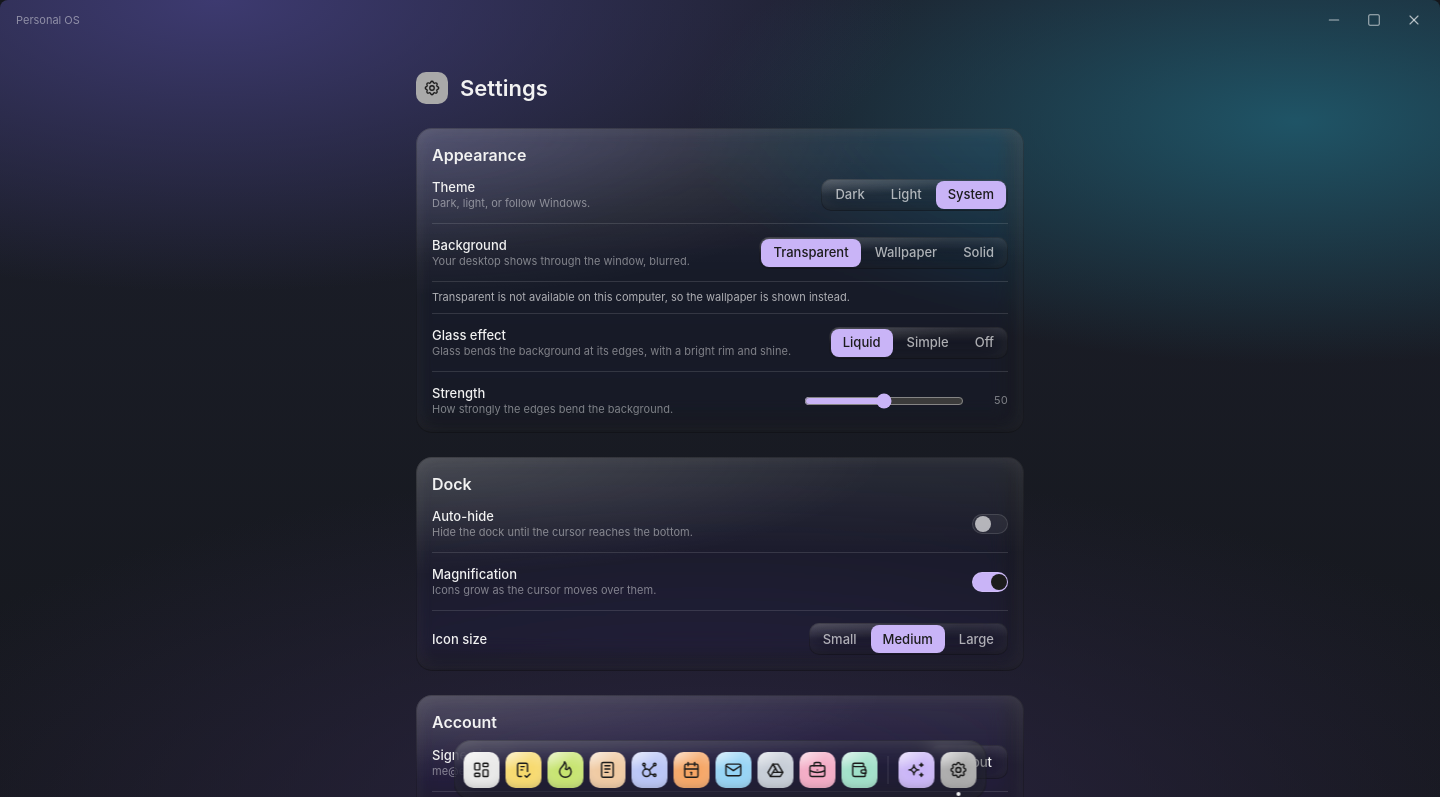
Appearance → Background › explains each mode
The image size is (1440, 797).
Expected: the text "Your desktop shows through the window, blurred." is shown, [432, 254, 690, 269]
Click the radio button labelled "Wallpaper" at (906, 252), box [863, 238, 949, 266]
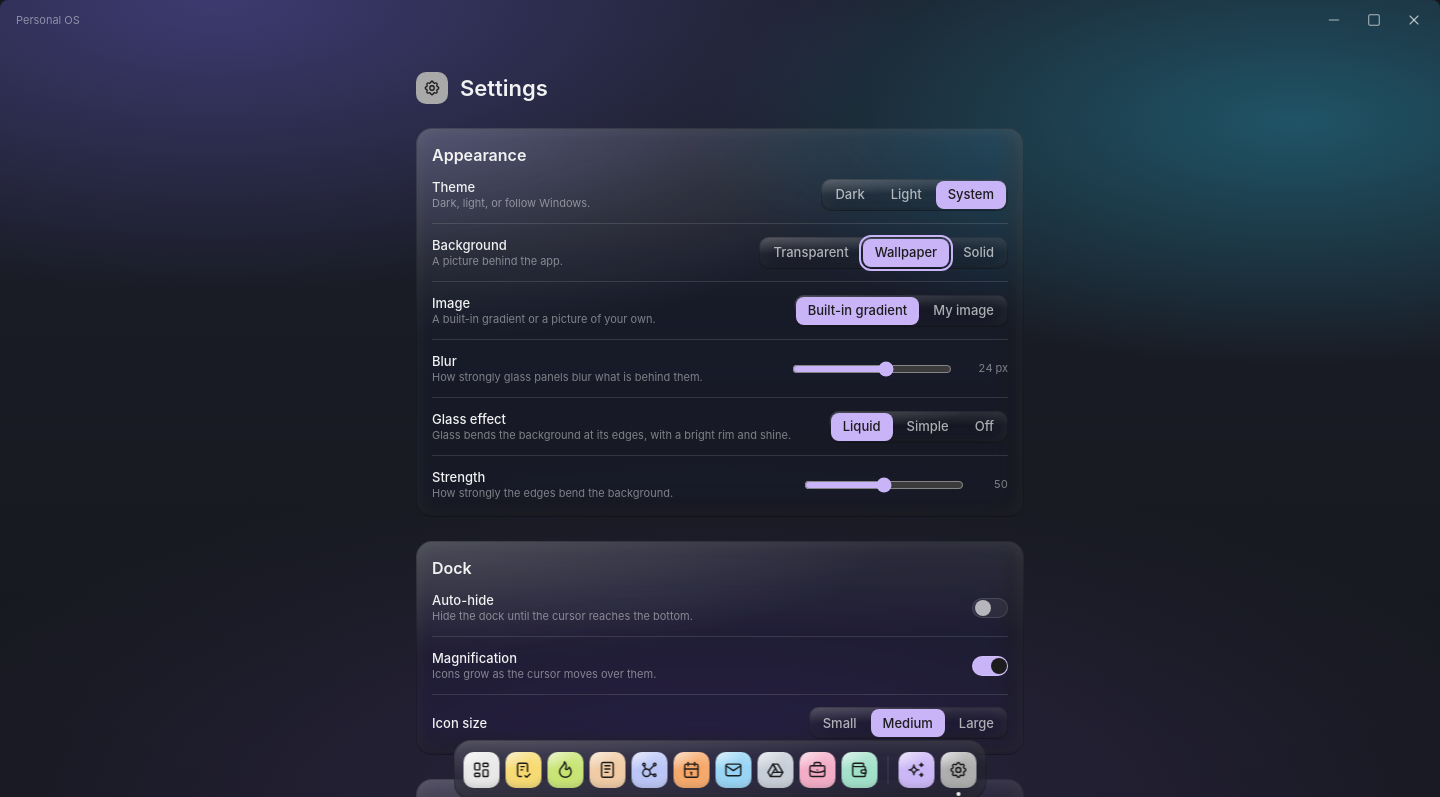
Result: the text "A picture behind the app." is shown at [432, 254, 563, 269]
Click the radio button labelled "Solid" at (979, 252), box [951, 238, 1006, 266]
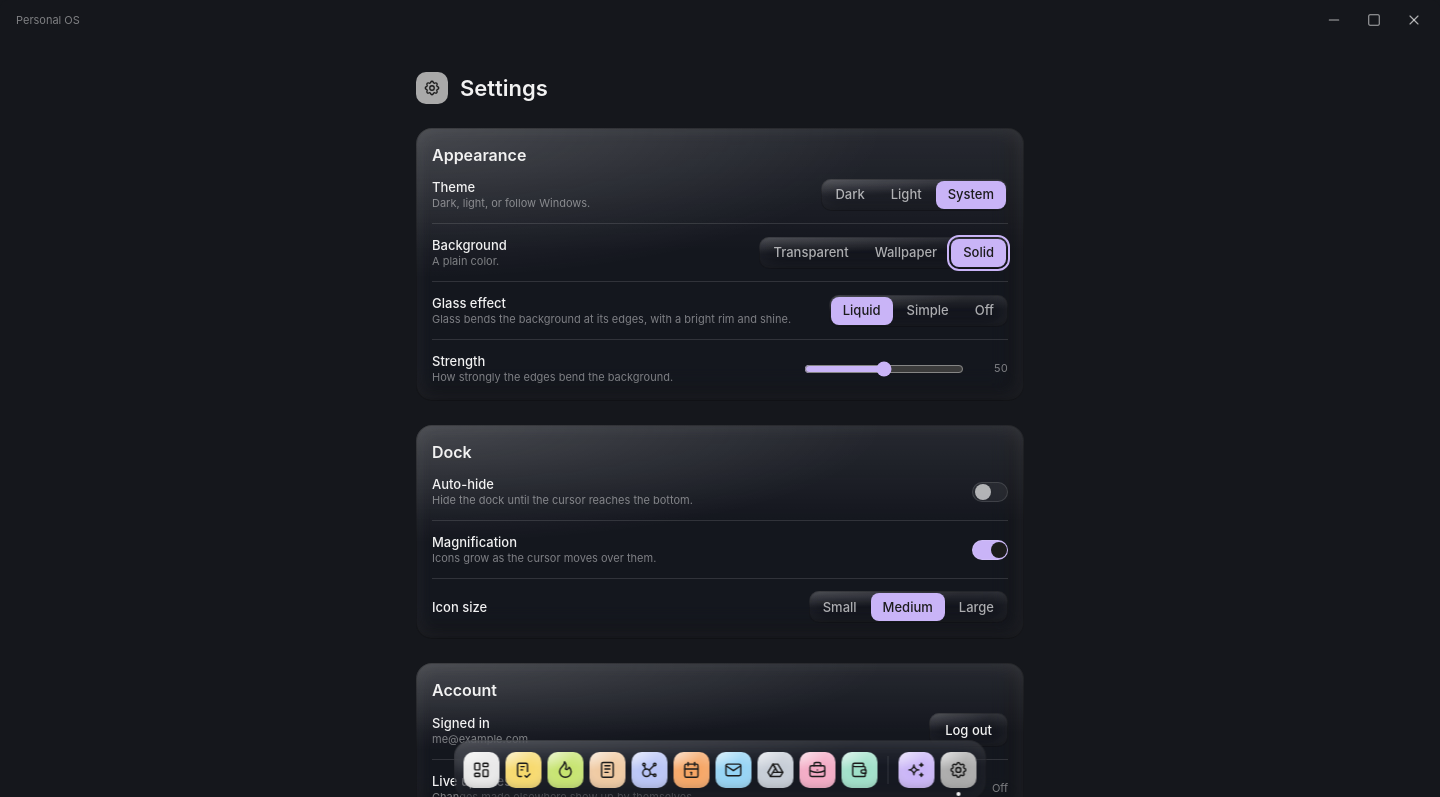
Result: the text "A plain color." is shown at [432, 254, 507, 269]
